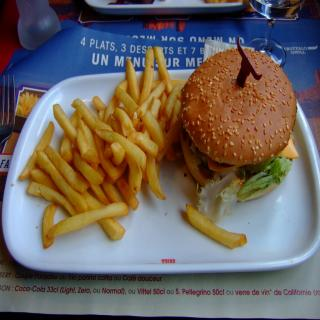French fries: (16, 42, 189, 252)
